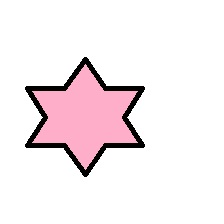star: (23, 56, 144, 177)
